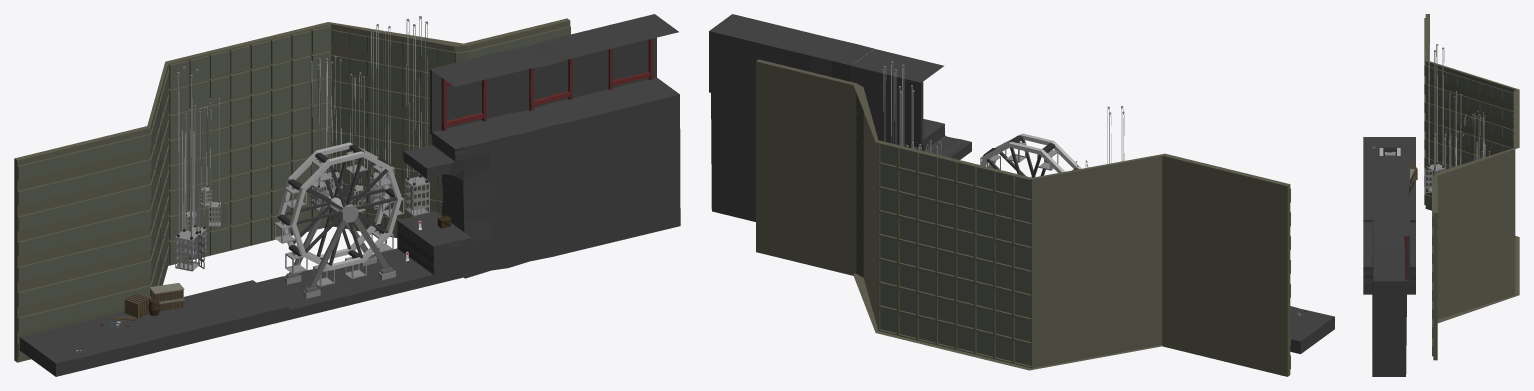
Rendered from clown_mec3.fbx.
The picture shows the model from 3 angles, left to right: view 1: azimuth 30°, elevation 25°; view 2: azimuth 150°, elevation 25°; view 3: azimuth 270°, elevation 25°; orthographic projection. The views are drawn at different scales.
Parts seen in each view (by area): view 1: ระนาบ, Cube.001, Cube, rotation wheel, ลูกบาศก์.010, ferris wheel, ลูกบาศก์.011, ลูกบาศก์.008, ลูกบาศก์.003, ลูกบาศก์.007, ลูกบาศก์.006, ลูกบาศก์.009 (+5 smaller); view 2: ระนาบ, Cube.001, rotation wheel, Cube, ลูกบาศก์.011; view 3: ระนาบ, Cube.001, Cube, ลูกบาศก์.010, ลูกบาศก์.003, ลูกบาศก์.008, ลูกบาศก์.005, ลูกบาศก์.002, ลูกบาศก์.011.
Part boxes in pixels (left/top/right/bottom): ระนาบ: left=14, top=18, right=570, bottom=362; Cube.001: left=403, top=14, right=680, bottom=278; Cube: left=19, top=211, right=471, bottom=376; rotation wheel: left=278, top=142, right=401, bottom=270; ลูกบาศก์.010: left=175, top=66, right=204, bottom=271; ferris wheel: left=284, top=190, right=395, bottom=298; ลูกบาศก์.011: left=405, top=16, right=429, bottom=216; ลูกบาศก์.008: left=370, top=24, right=392, bottom=209; ลูกบาศก์.003: left=189, top=105, right=206, bottom=256; ลูกบาศก์.007: left=309, top=58, right=328, bottom=211; ลูกบาศก์.006: left=324, top=56, right=342, bottom=194; ลูกบาศก์.009: left=349, top=72, right=365, bottom=213; ระนาบ: left=756, top=59, right=1290, bottom=376; Cube.001: left=709, top=14, right=971, bottom=221; rotation wheel: left=980, top=133, right=1080, bottom=177; Cube: left=1290, top=306, right=1334, bottom=354; ลูกบาศก์.011: left=883, top=61, right=904, bottom=146; ระนาบ: left=1424, top=14, right=1519, bottom=360; Cube.001: left=1372, top=156, right=1409, bottom=376; Cube: left=1363, top=137, right=1415, bottom=294; ลูกบาศก์.010: left=1425, top=44, right=1444, bottom=192; ลูกบาศก์.003: left=1449, top=91, right=1461, bottom=167; ลูกบาศก์.008: left=1449, top=131, right=1464, bottom=167; ลูกบาศก์.005: left=1475, top=114, right=1485, bottom=159; ลูกบาศก์.002: left=1474, top=111, right=1483, bottom=160; ลูกบาศก์.011: left=1434, top=133, right=1446, bottom=174.
Size of the model in its own units: 392 by 144 by 115.
